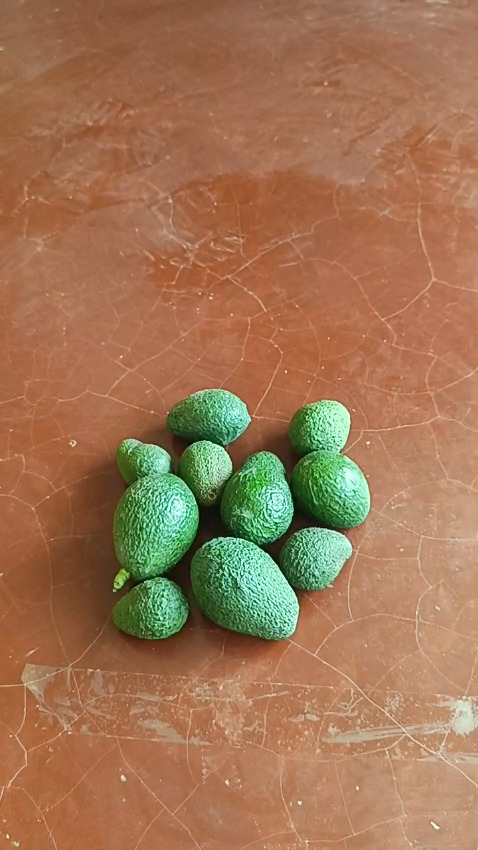Primera: (189, 537, 297, 639), (111, 472, 200, 582), (219, 452, 293, 545)
Segunda: (289, 448, 370, 528)
Tercera: (109, 574, 190, 640), (278, 527, 354, 591), (166, 388, 249, 445), (176, 439, 235, 507), (286, 398, 352, 457), (116, 438, 172, 486)
